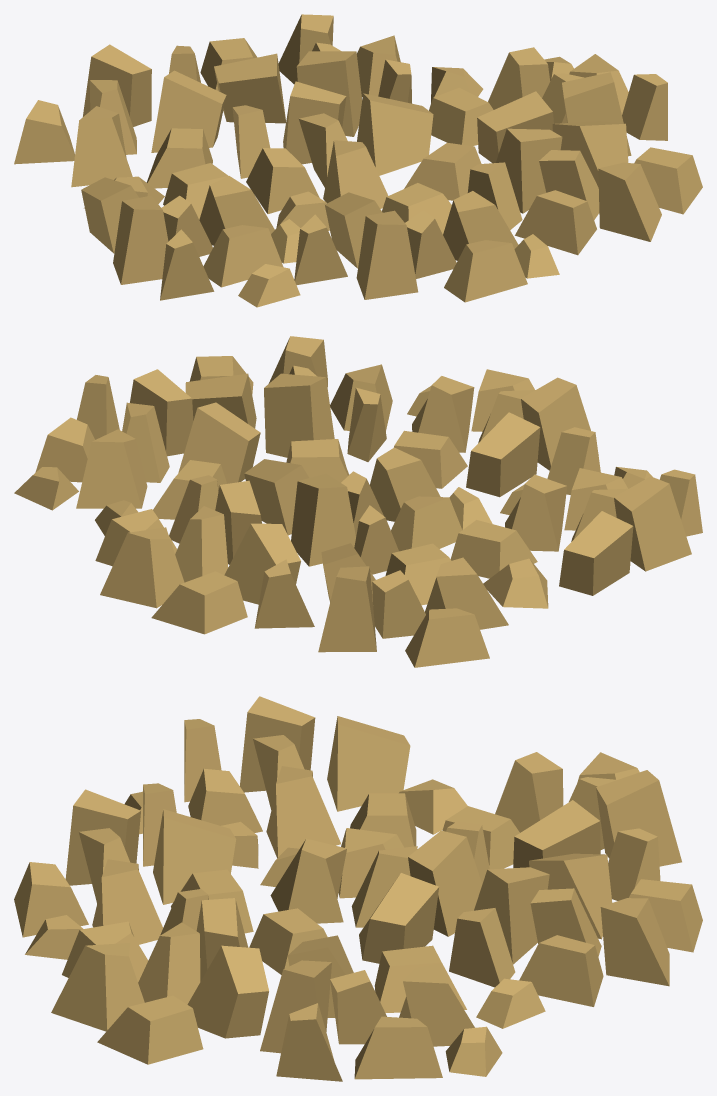
File: Garlic_Minced.glb
3 views of the same model, one above another, from view 1: azimuth 30°, elevation 25°; view 2: azimuth 150°, elevation 25°; view 3: azimuth 270°, elevation 25° (orthographic). The views are drawn at different scales.
Visible parts, largest first — view 1: Garlic_Minced; view 2: Garlic_Minced; view 3: Garlic_Minced.
Part boxes in pixels (<box>): Garlic_Minced: <box>14,14,702,307</box>; Garlic_Minced: <box>14,336,702,667</box>; Garlic_Minced: <box>14,696,702,1081</box>.
Size of the model in its own units: 2.09 by 0.2536 by 1.93.
Materials: 1 (1 with a texture image).
